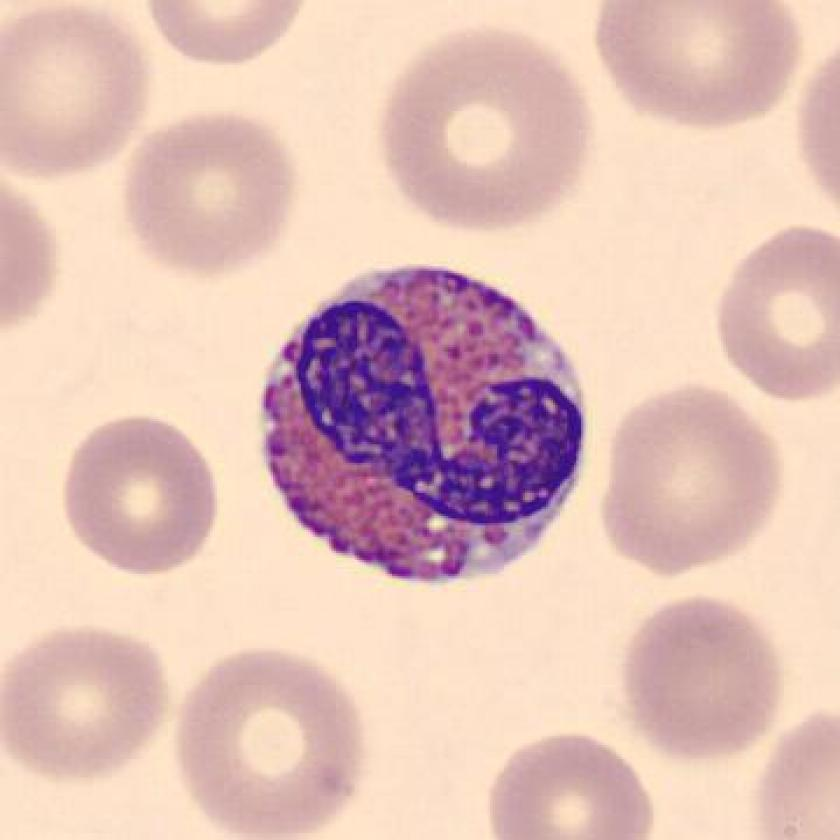eosinophil: (244, 246, 598, 603)
